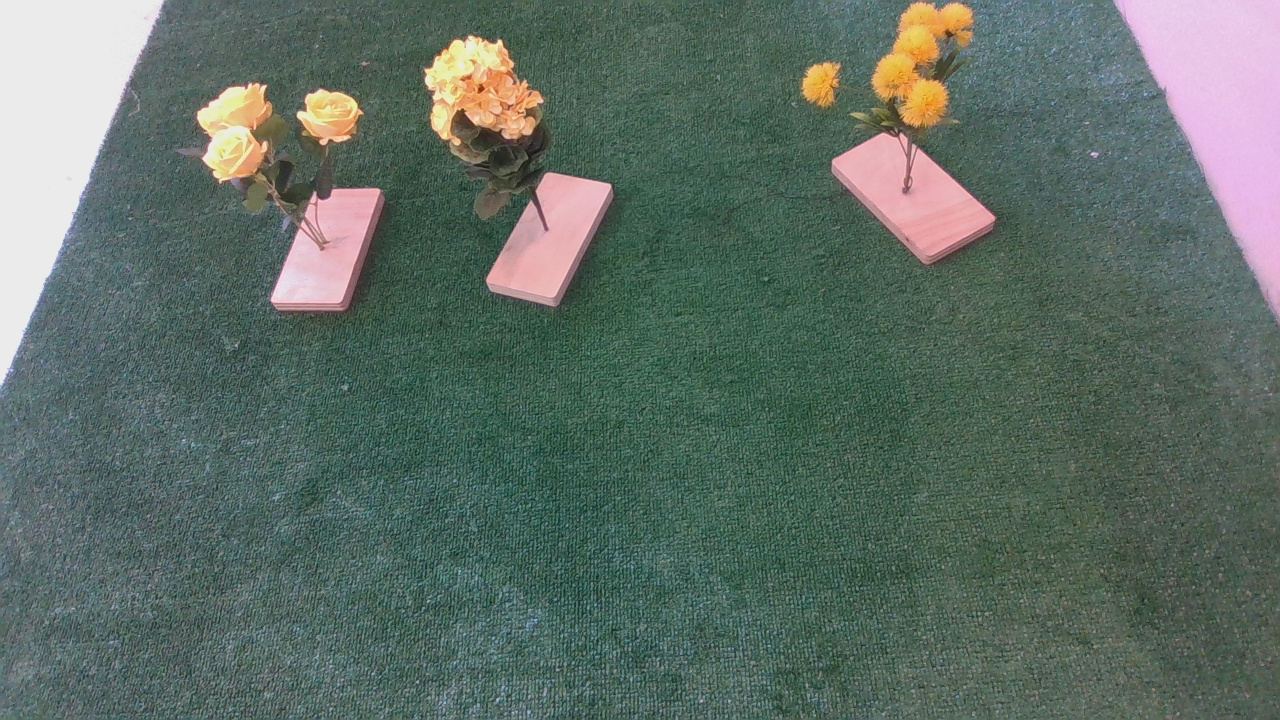dandelion: (799, 4, 1011, 138)
geranium: (422, 35, 570, 223)
rose: (189, 83, 380, 218)
